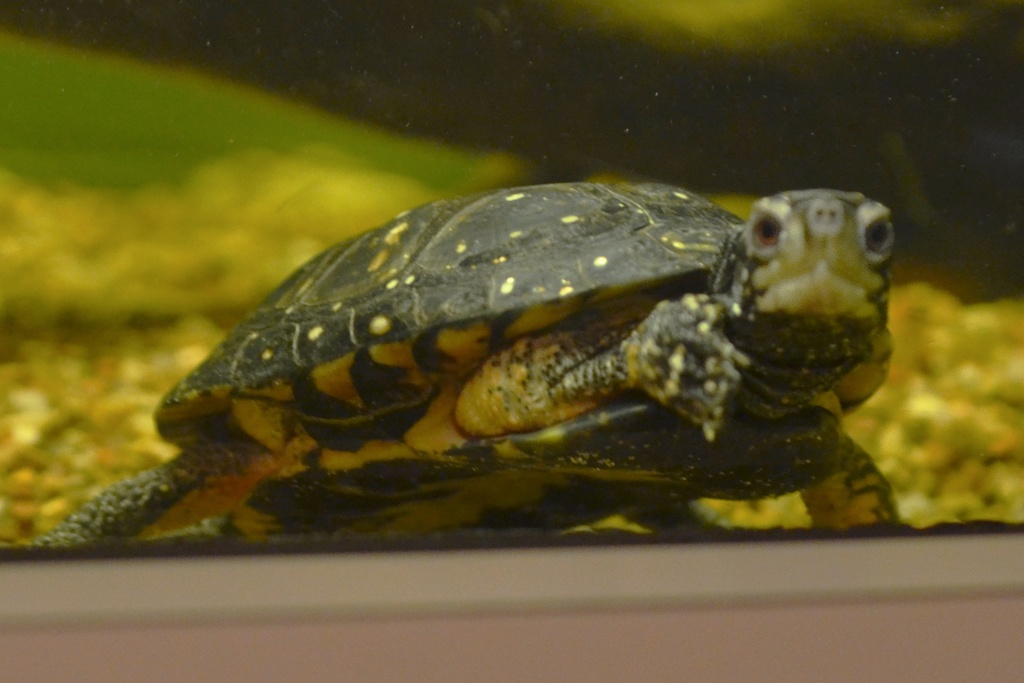Sea turtles: (28, 174, 903, 551)
